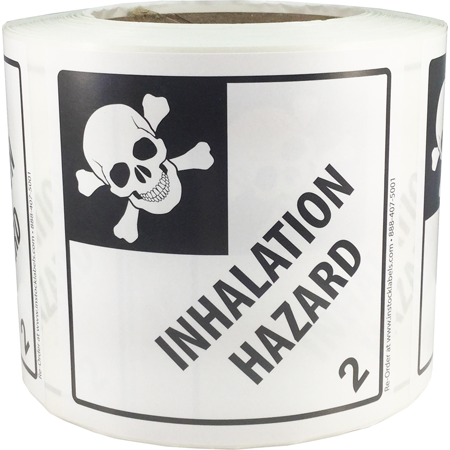InhalationHazard: (54, 66, 394, 428)
